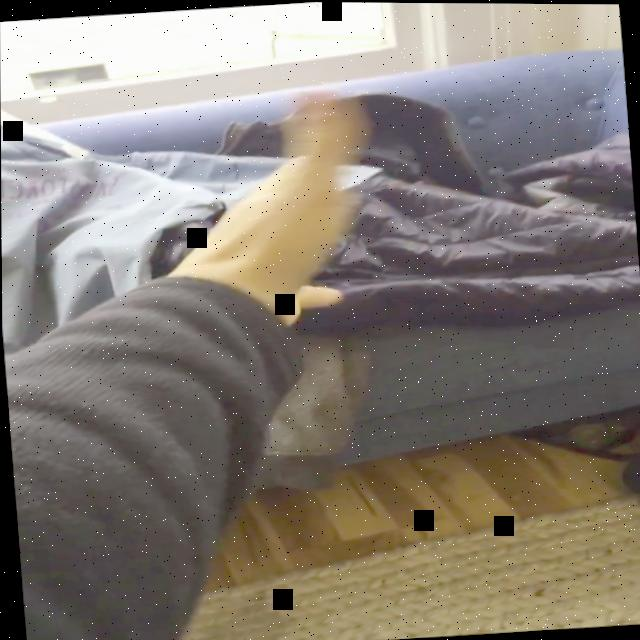Paper: (167, 86, 377, 331)
